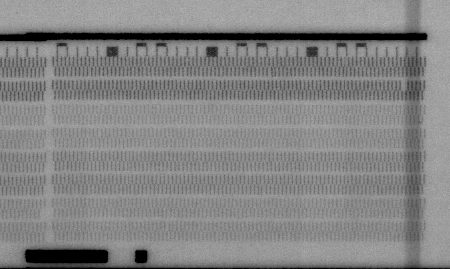Broken hole: (399, 78, 411, 92), (38, 209, 49, 221)
